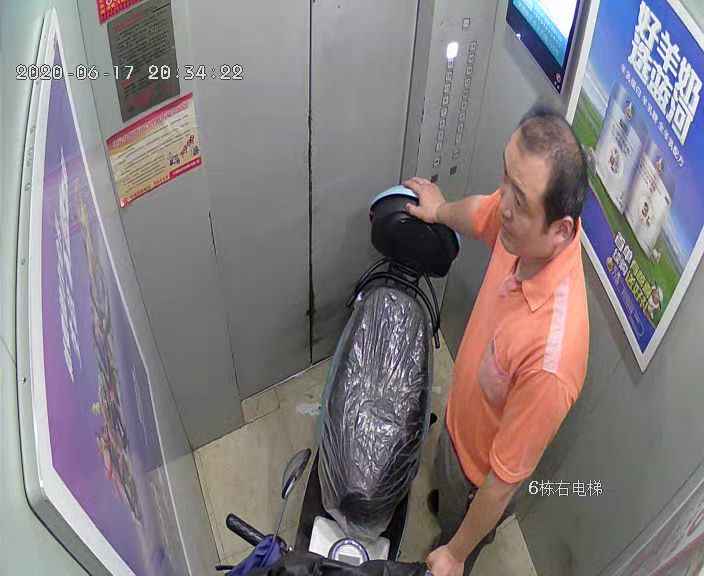Electric-bicycle: (214, 183, 459, 576)
